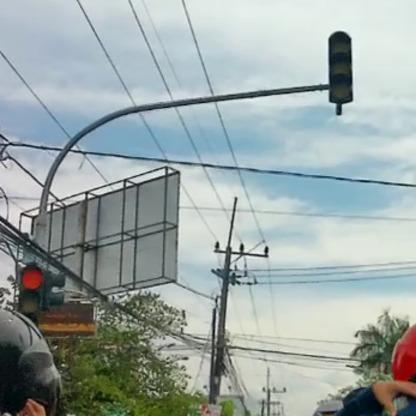red: (16, 263, 42, 334)
yellow: (327, 31, 353, 105)
